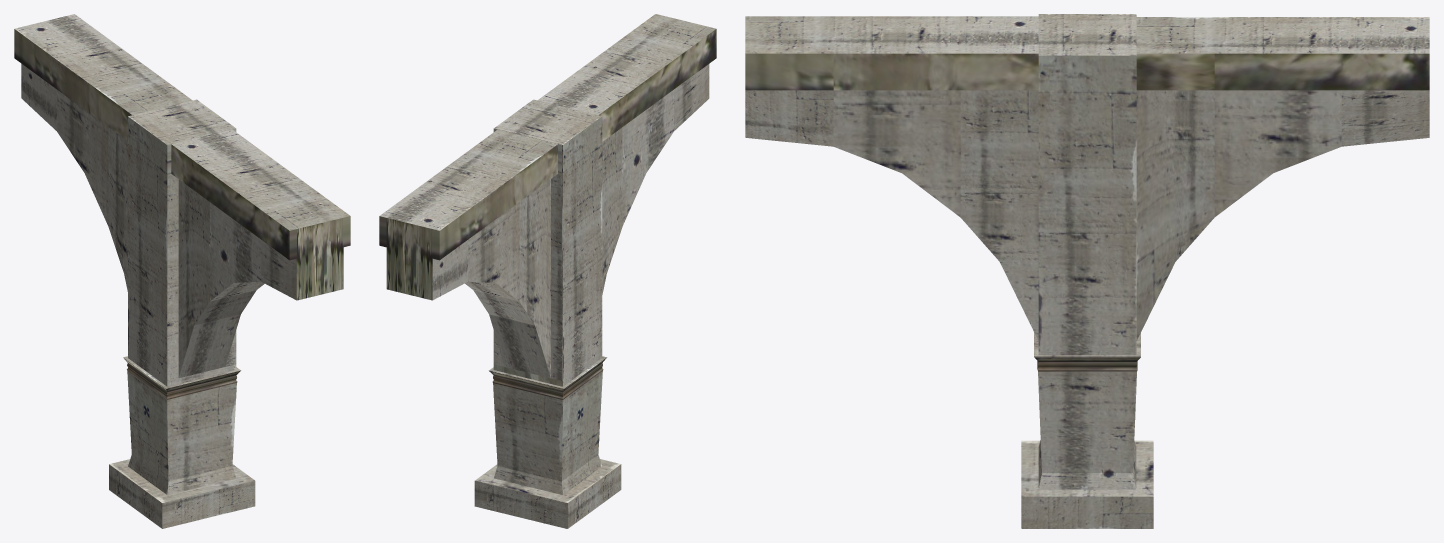
The model's file is Arches du tombeau 1.fbx.
3 views of the same model, side by side, from view 1: azimuth 30°, elevation 25°; view 2: azimuth 150°, elevation 25°; view 3: azimuth 270°, elevation 25° (orthographic). The views are drawn at different scales.
Visible parts, largest first — view 1: Arche Basse L, Arche Basse T; view 2: Arche Basse T, Arche Basse L; view 3: Arche Basse T, Arche Basse L.
Boxes of the visible parts, left/top/right/bottom form: Arche Basse L: left=109, top=100, right=349, bottom=528; Arche Basse T: left=14, top=14, right=350, bottom=506; Arche Basse T: left=379, top=14, right=655, bottom=528; Arche Basse L: left=476, top=14, right=716, bottom=528; Arche Basse T: left=745, top=15, right=1429, bottom=528; Arche Basse L: left=745, top=14, right=1153, bottom=527.
Size of the model in its own units: 136 by 526 by 700.
